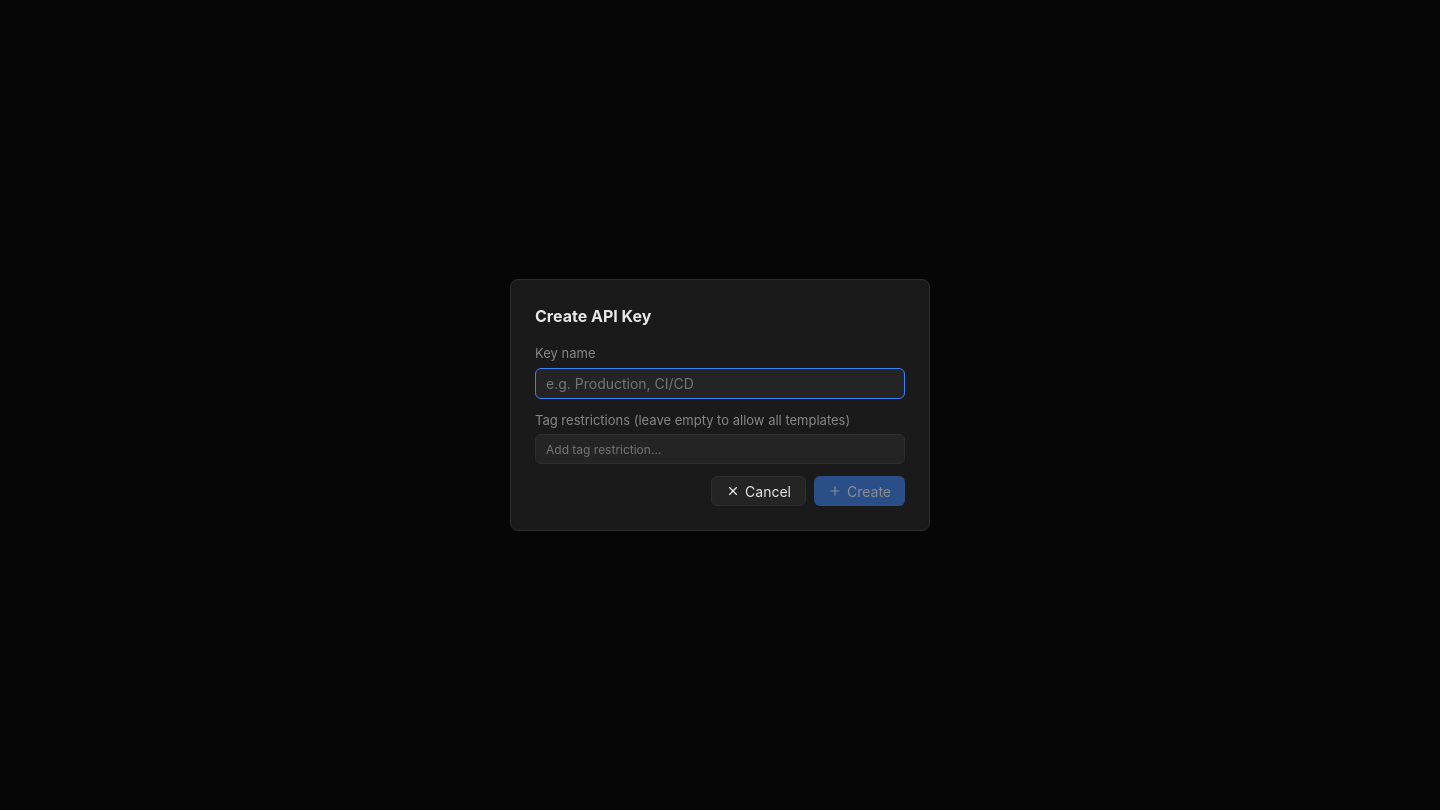
Test case: createApiKeyModal component › create button is enabled when name is filled in
In the field with test id "api-key-name-input": point(720, 383) [535, 368, 905, 398], type "My Key"
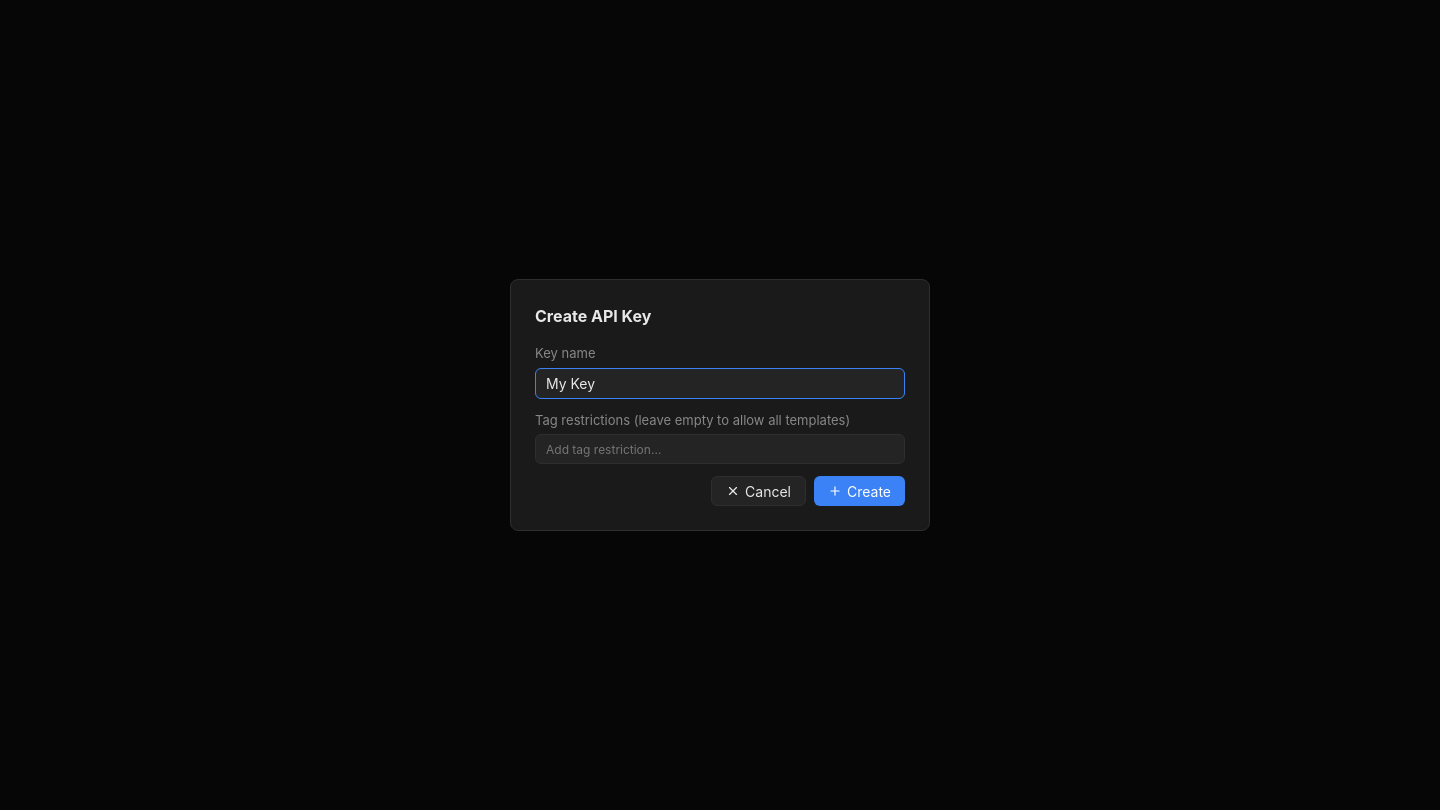
Expected: the button with test id "modal-create-btn" is enabled, [814, 476, 905, 506]
